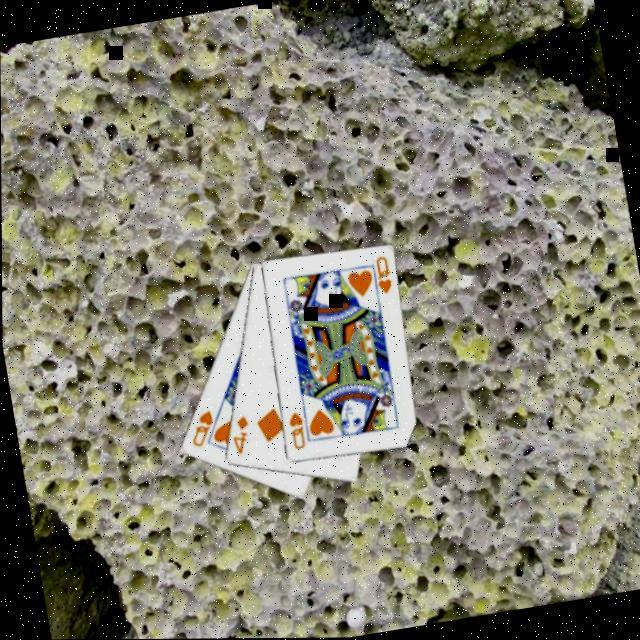4D: (226, 411, 256, 457)
QH: (184, 406, 220, 450), (368, 253, 397, 302), (285, 408, 310, 453)
